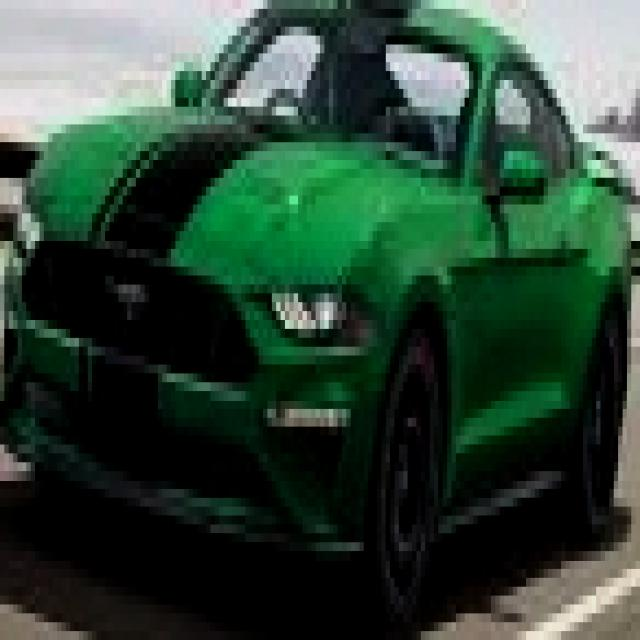green: (2, 0, 630, 629)
